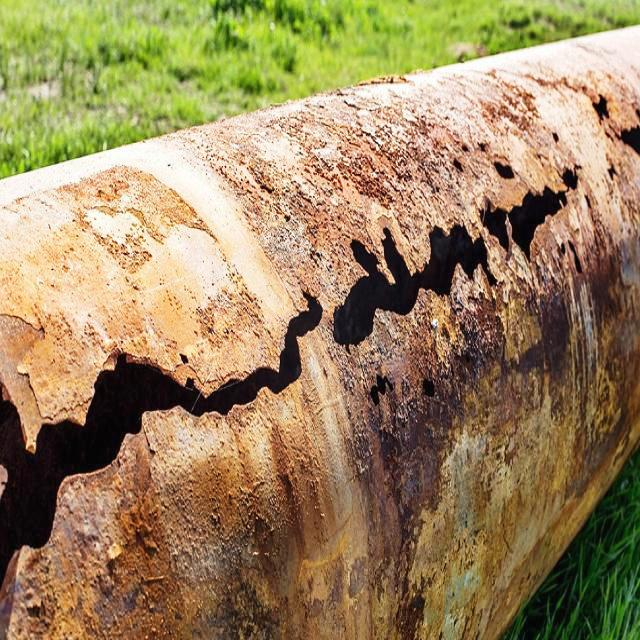Corrosion: (0, 22, 640, 640)
